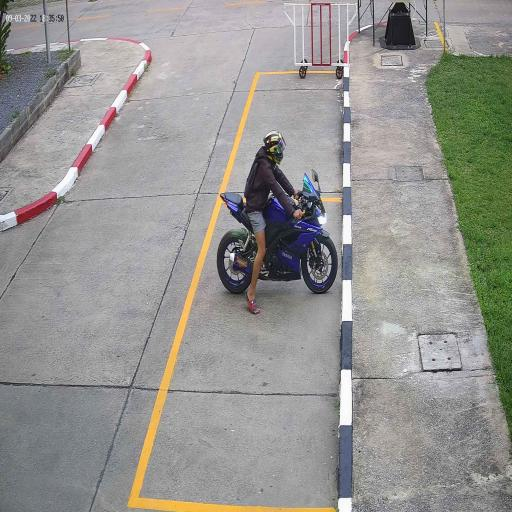motorcycle: (216, 190, 339, 299)
